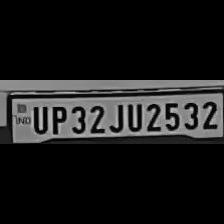2: (85, 100, 105, 134), (198, 97, 218, 130), (142, 99, 160, 131)
3: (68, 101, 86, 133), (181, 98, 199, 130)
5: (161, 98, 181, 130)
J: (107, 100, 125, 132)
P: (47, 102, 67, 134)
U: (28, 102, 48, 134), (124, 99, 142, 131)
